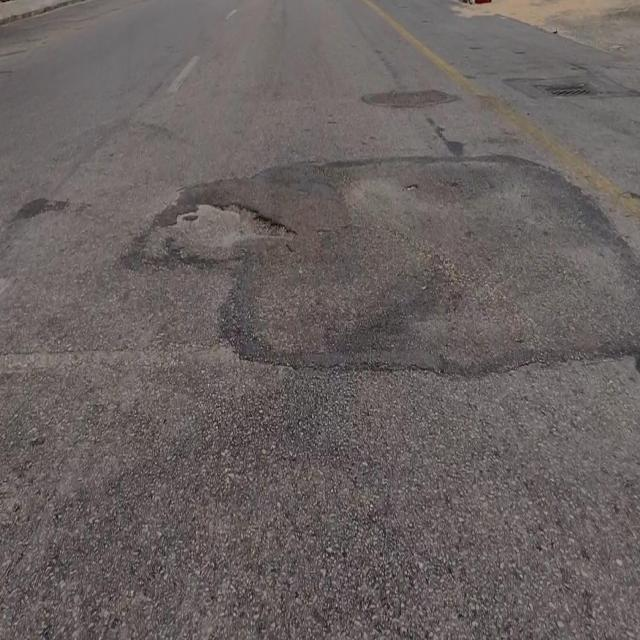Potholes: (171, 200, 295, 249)
